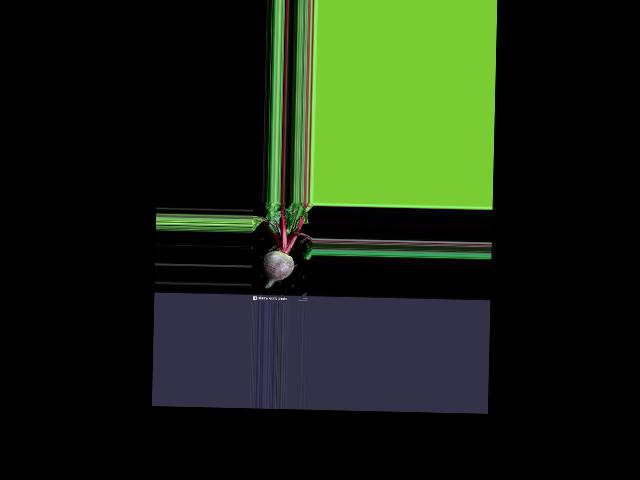beet: (250, 201, 313, 289)
